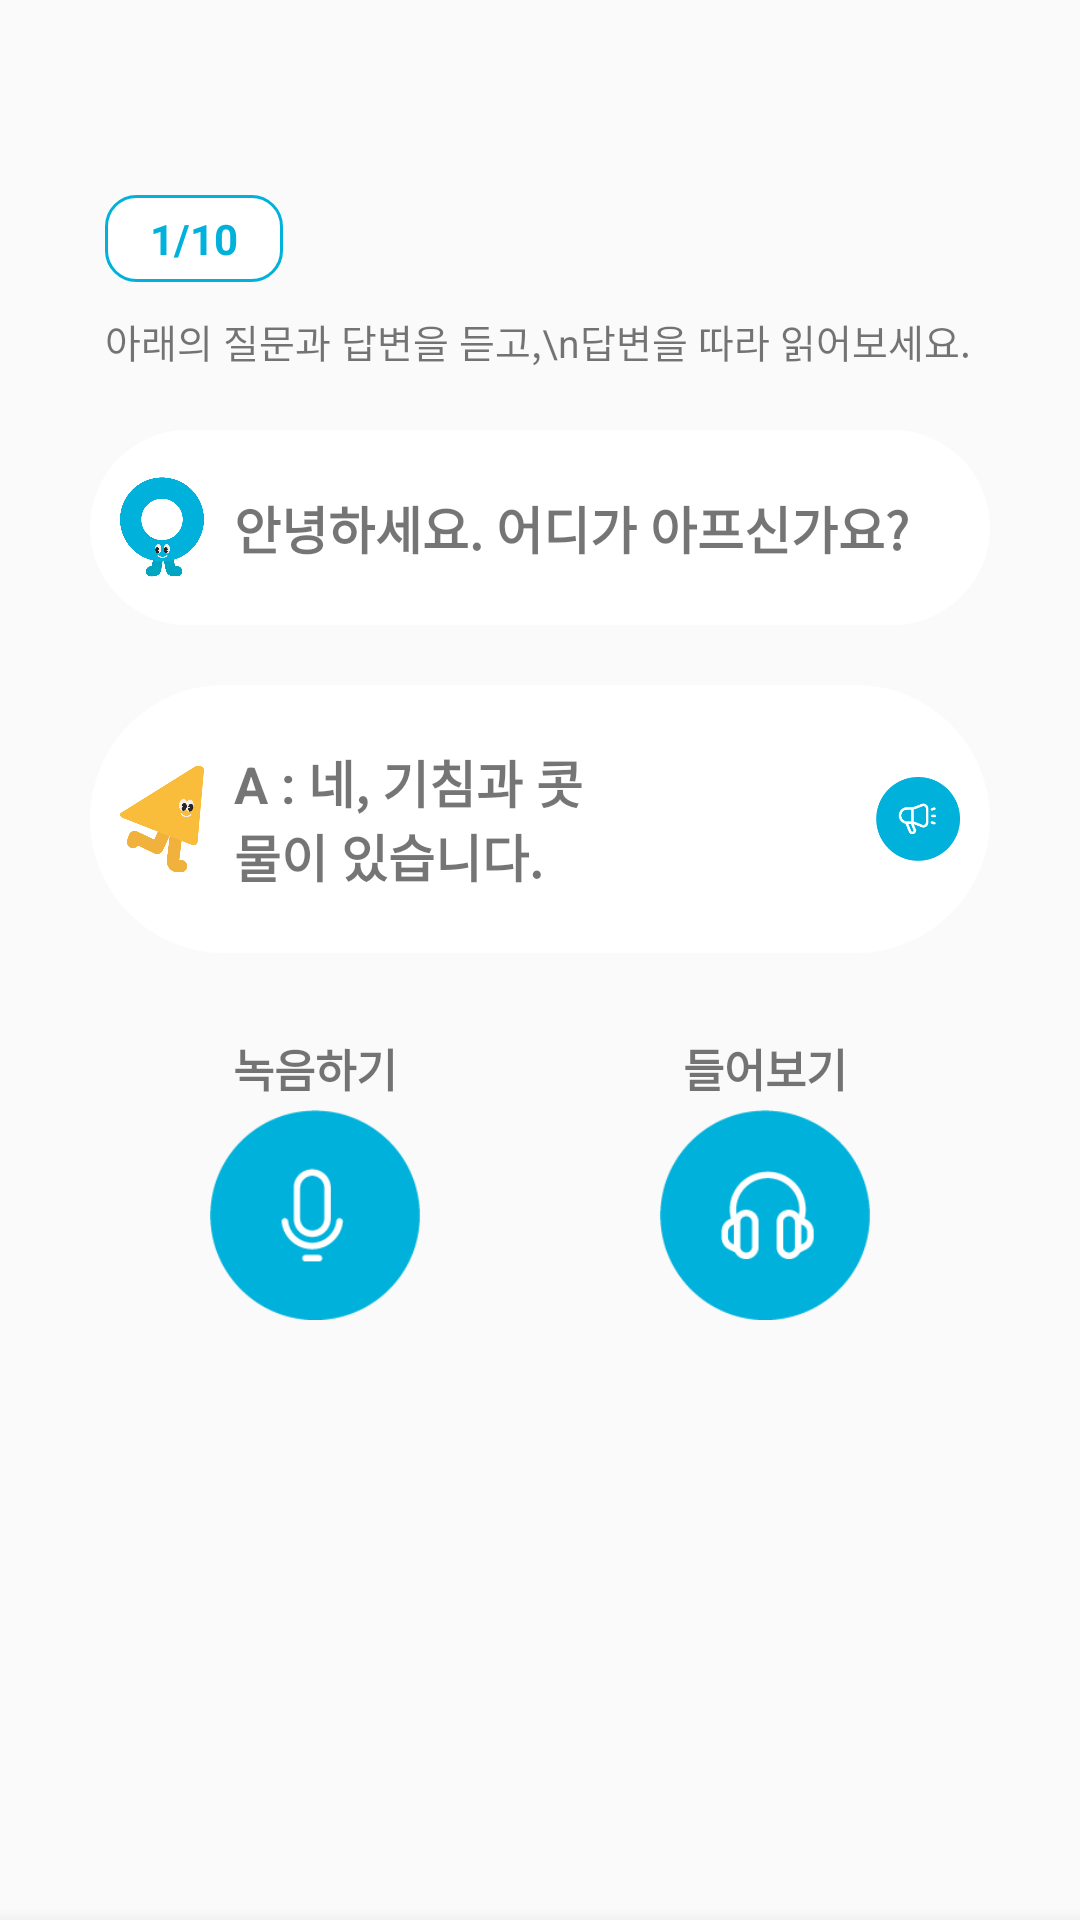

Icon click points for this 1080px x 1920px phone screenshot, format [x,y]:
audio start: [918,819]
